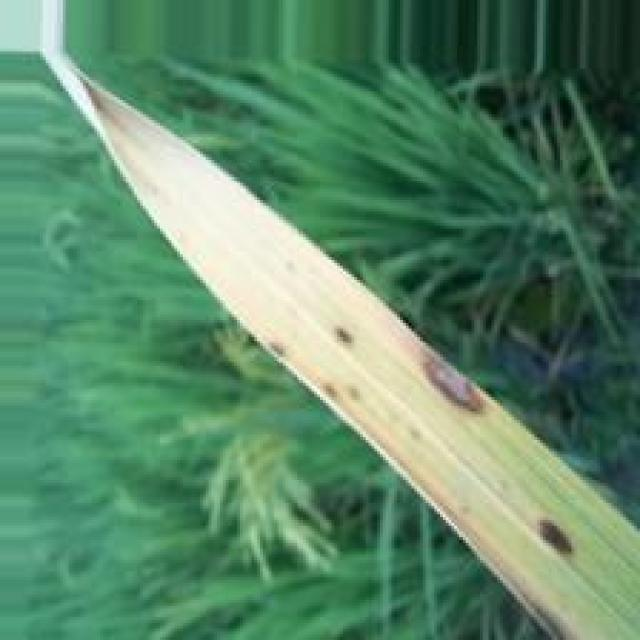Brown_Spot: (416, 346, 485, 415), (530, 514, 579, 560), (328, 320, 361, 353), (313, 380, 344, 409), (261, 338, 293, 362)
